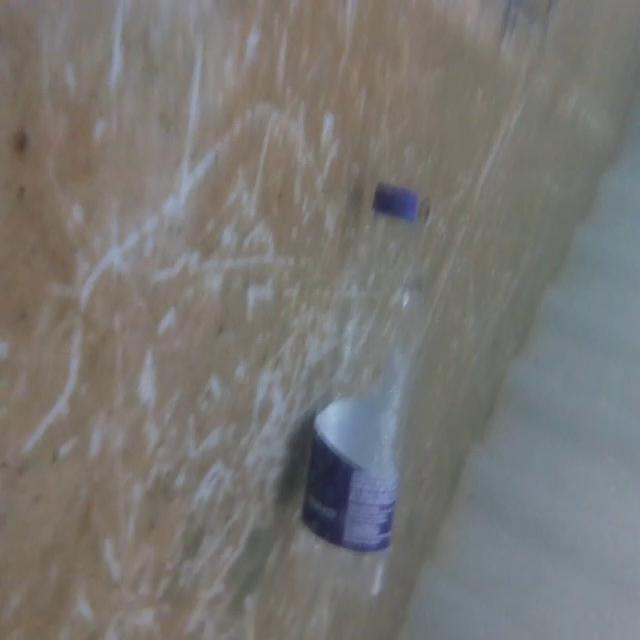plastic bottle: (285, 168, 423, 607)
